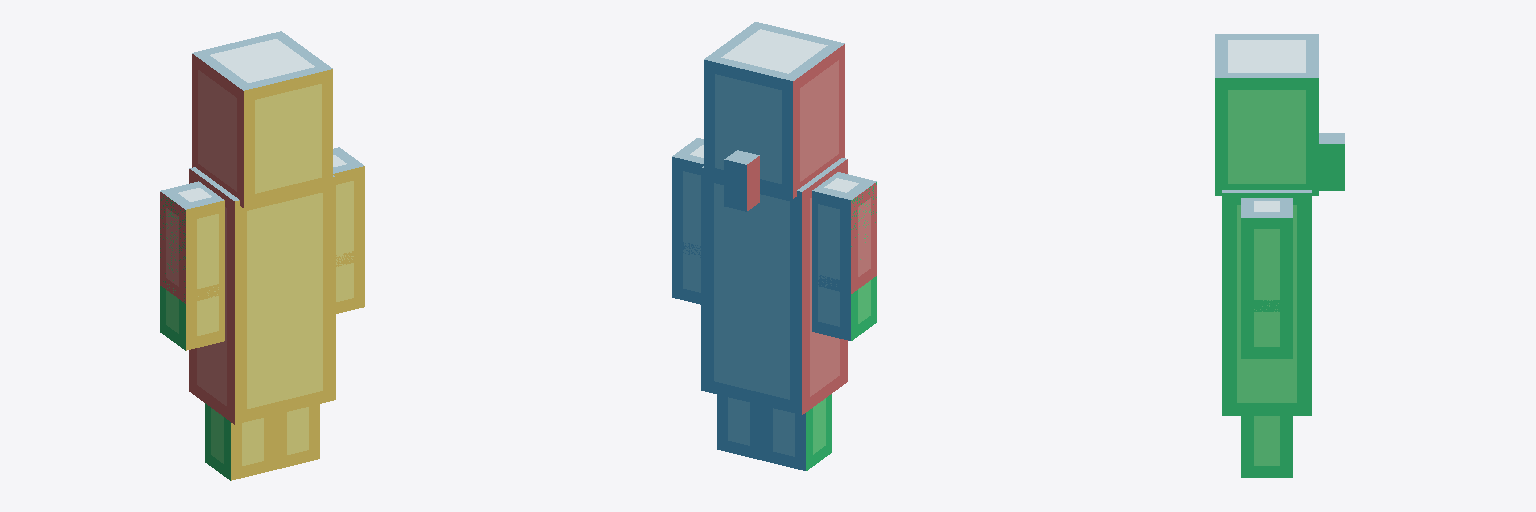
3 renders of one model, left to right at view 1: azimuth 30°, elevation 25°; view 2: azimuth 150°, elevation 25°; view 3: azimuth 270°, elevation 25°, orthographic.
Parts seen in each view (by area): view 1: body, Head, arms, leg1, LeftArm, leg0, RightArm; view 2: body, Head, arms, leg1, LeftArm, leg0, RightArm, nose; view 3: Head, body, arms, leg0, RightArm, nose.
Boxes of the visible parts, x1,y1,x2,y2 form: body: [189, 167, 335, 424]; Head: [192, 31, 332, 207]; arms: [160, 147, 364, 303]; leg1: [205, 403, 274, 480]; LeftArm: [160, 196, 224, 350]; leg0: [275, 404, 319, 469]; RightArm: [335, 167, 364, 313]; body: [701, 158, 847, 414]; Head: [704, 22, 844, 198]; arms: [672, 138, 876, 293]; leg1: [762, 394, 831, 470]; LeftArm: [812, 182, 876, 340]; leg0: [717, 395, 761, 459]; RightArm: [672, 157, 703, 304]; nose: [724, 150, 759, 211]; Head: [1215, 34, 1318, 195]; body: [1222, 190, 1311, 415]; arms: [1241, 198, 1292, 311]; leg0: [1241, 416, 1292, 477]; RightArm: [1241, 218, 1292, 358]; nose: [1319, 133, 1344, 190].
Size of the model in its own units: 1 by 2.12 by 0.625.
Materials: 1 (1 with a texture image).